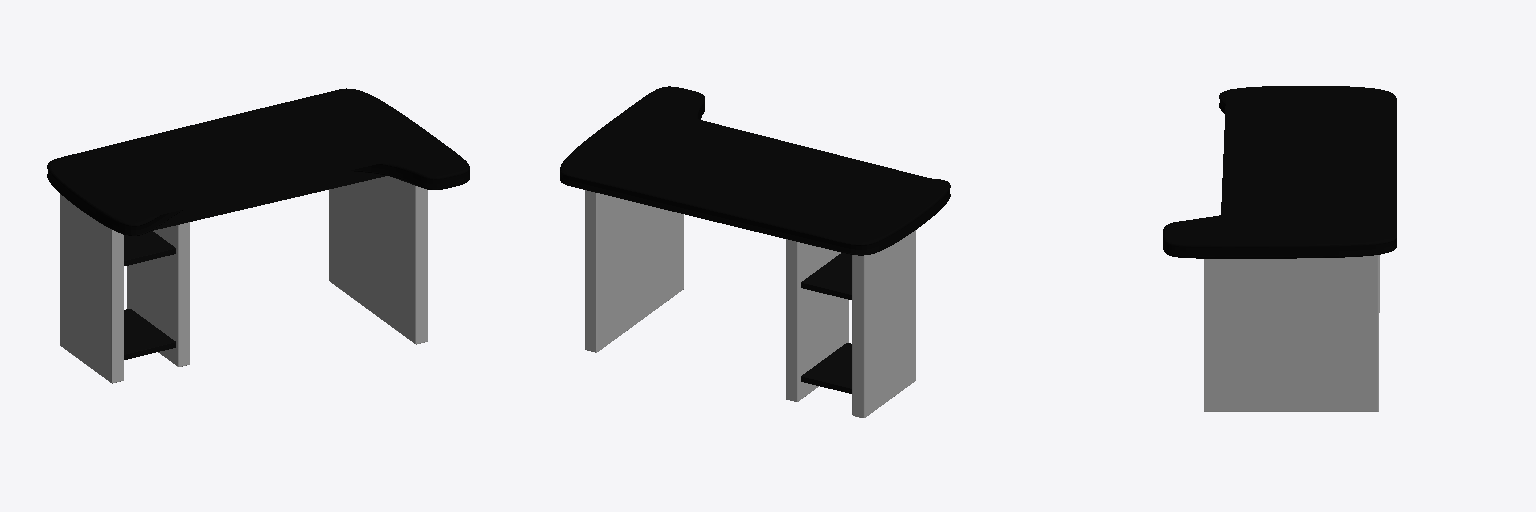
Rendered from desk3.obj.
3 views of the same model, side by side, from view 1: azimuth 30°, elevation 25°; view 2: azimuth 150°, elevation 25°; view 3: azimuth 270°, elevation 25° (orthographic).
Visible parts, largest first — view 1: BasicDesk_Agonic; view 2: BasicDesk_Agonic; view 3: BasicDesk_Agonic.
Boxes of the visible parts, x1,y1,x2,y2 form: BasicDesk_Agonic: [47, 88, 469, 383]; BasicDesk_Agonic: [560, 86, 950, 417]; BasicDesk_Agonic: [1163, 86, 1396, 411].
Size of the model in its own units: 2.74 by 1.45 by 1.7.